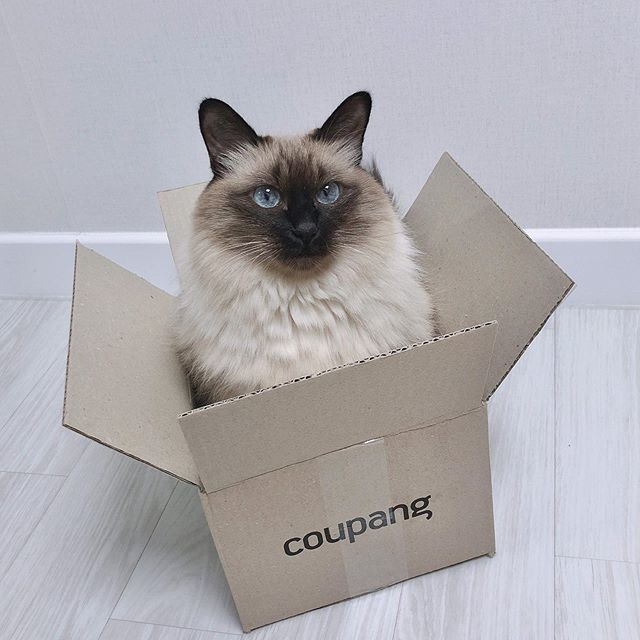cat: (191, 90, 394, 278)
